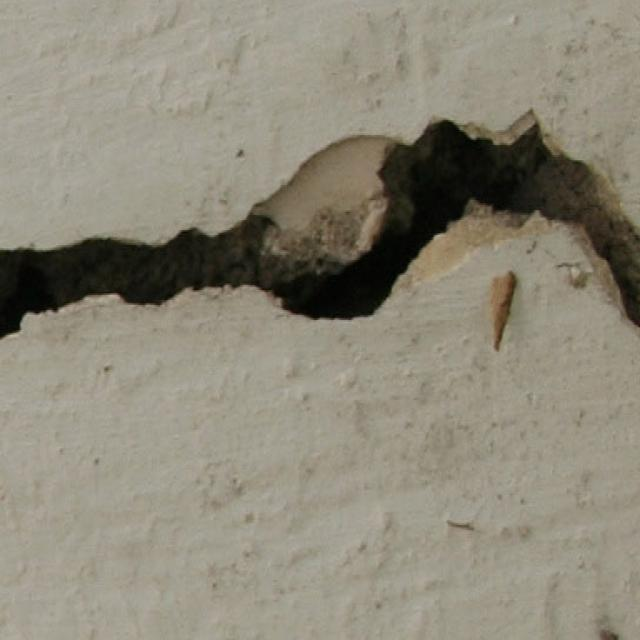Transverse: (0, 104, 640, 362)
